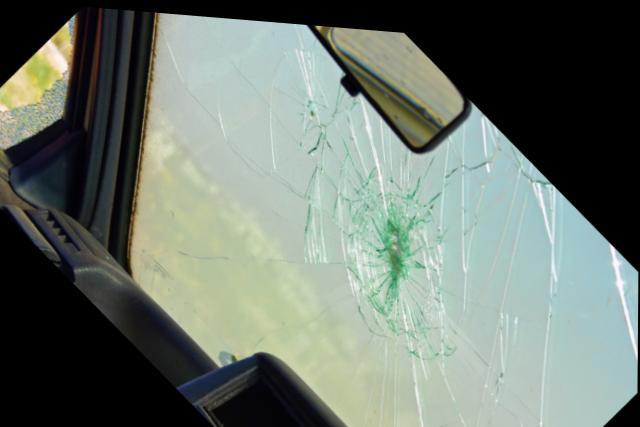glass shatter: (129, 10, 639, 427), (0, 13, 74, 150)
